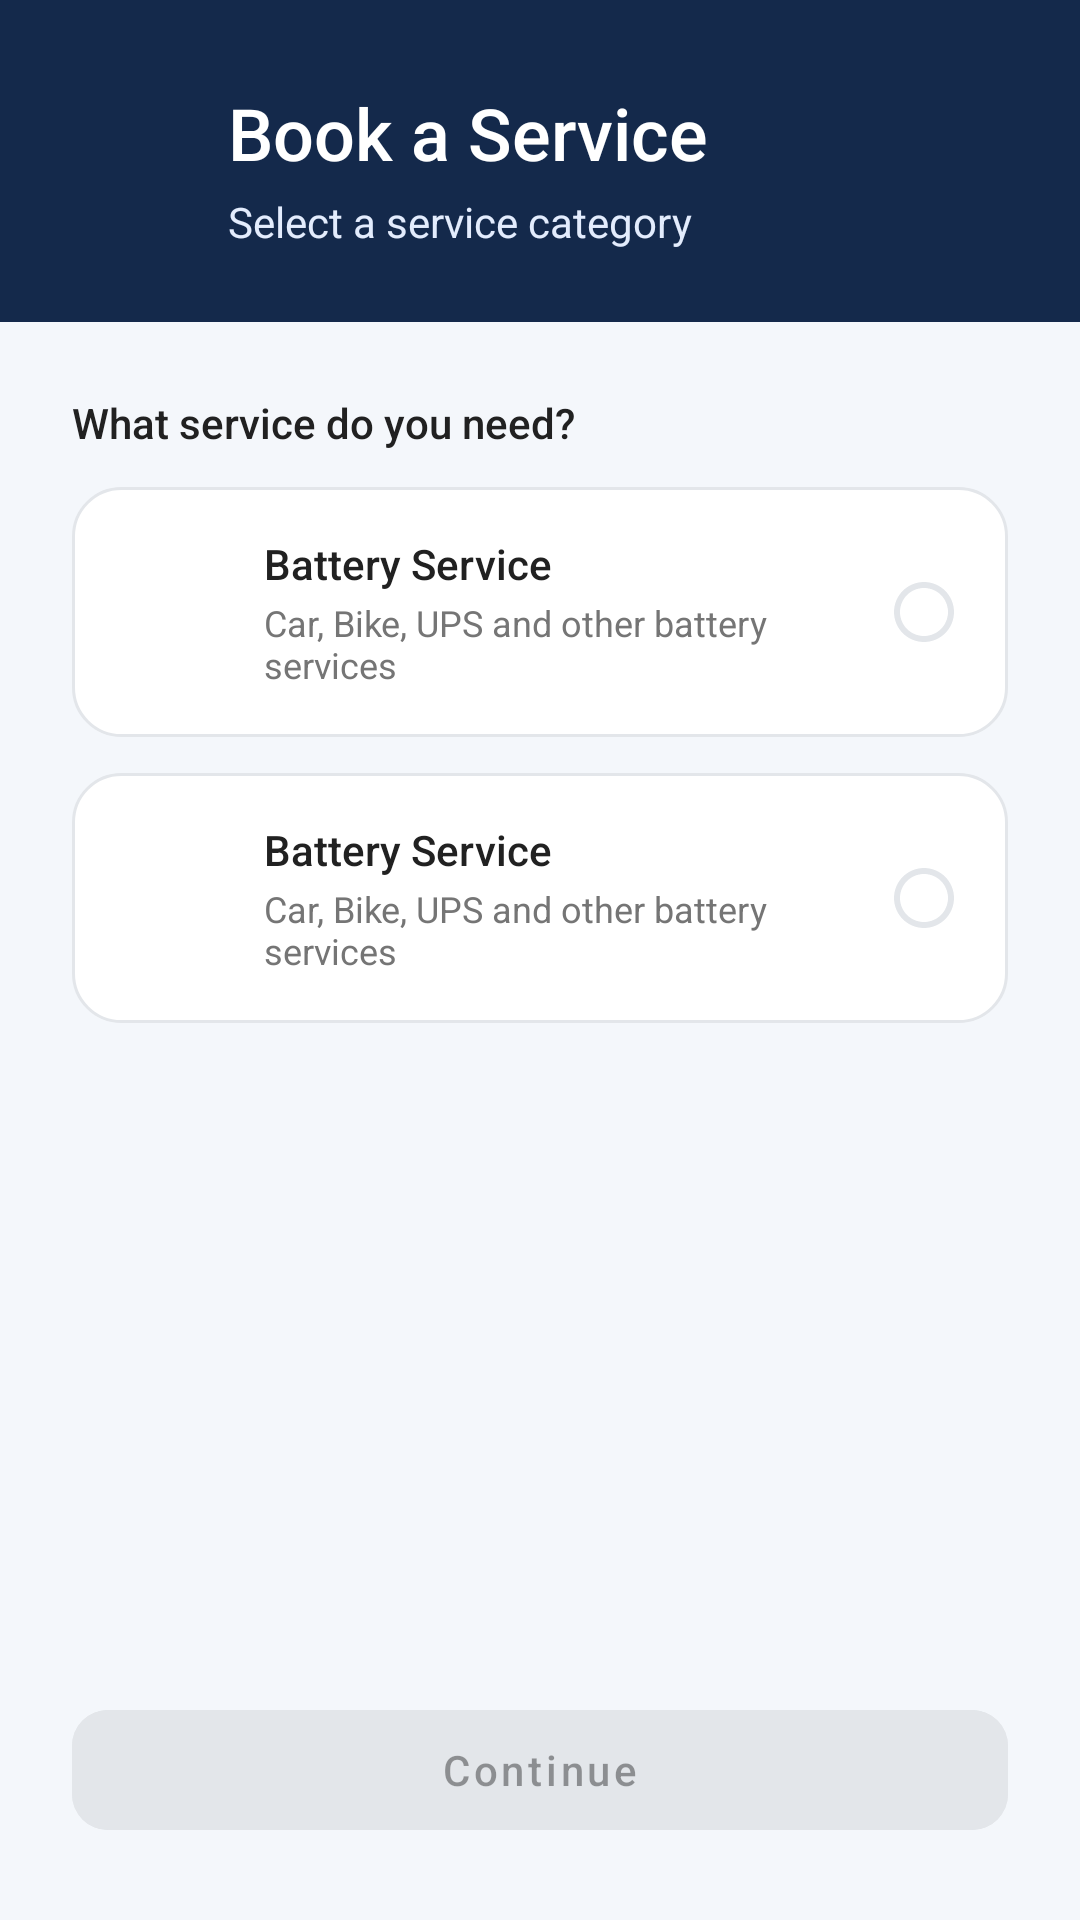

Where to tap for icons on this 1080×1920 app screen, as (x,y):
radio indicator: (924,612), (924,898)
